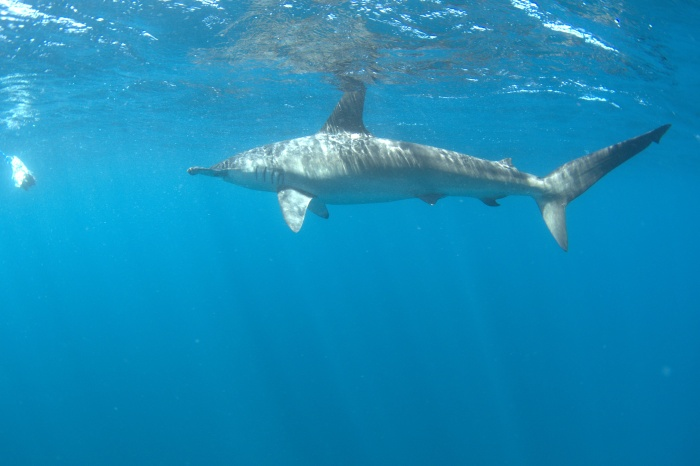Hammer: (130, 71, 700, 275)
